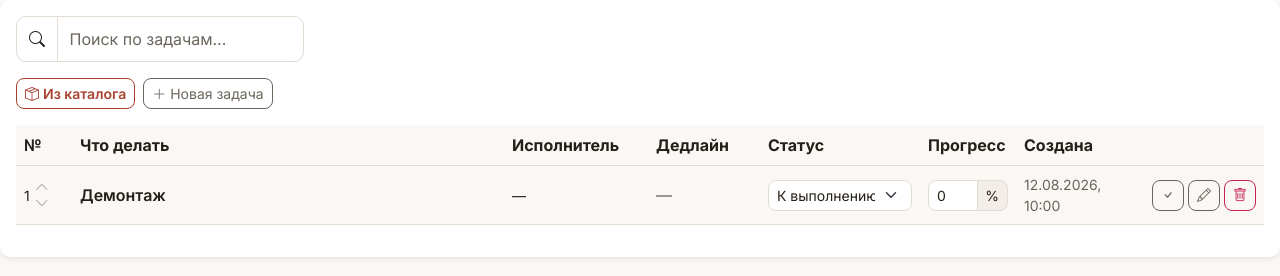
Test: TaskListTable › reverts garbage on blur and never commits
The image size is (1280, 276).
Replace the text in the field named "Прогресс: Демонтаж" with "abc": (953,195) [928,180,978,210]
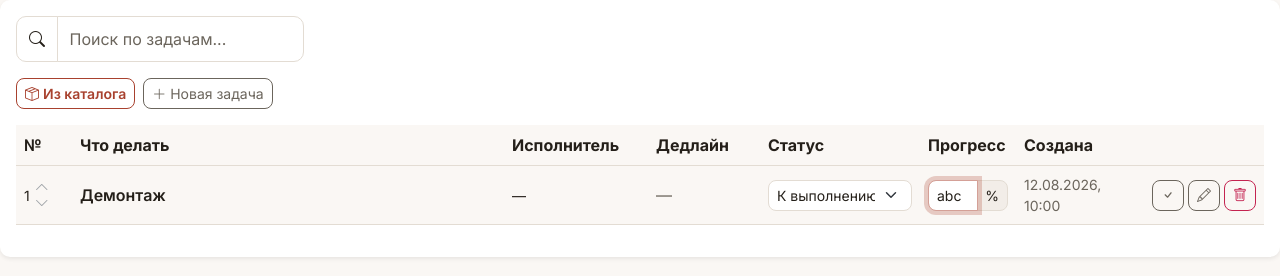
Leave the field named "Прогресс: Демонтаж", box [928,180,978,210]
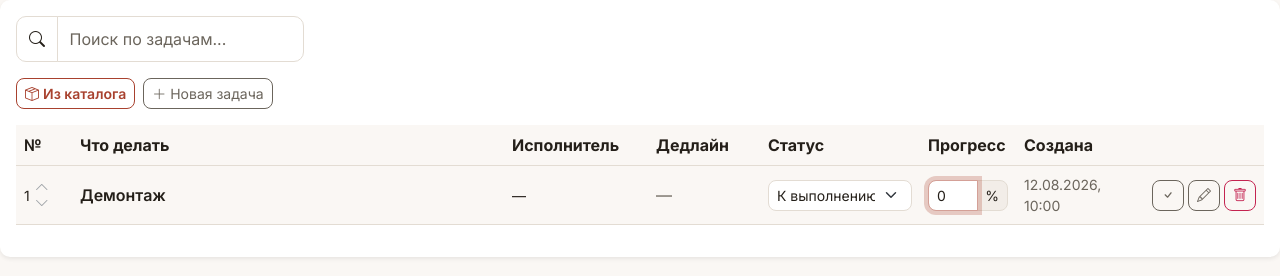
Expected: the field named "Прогресс: Демонтаж" holds "0", [928,180,978,210]
